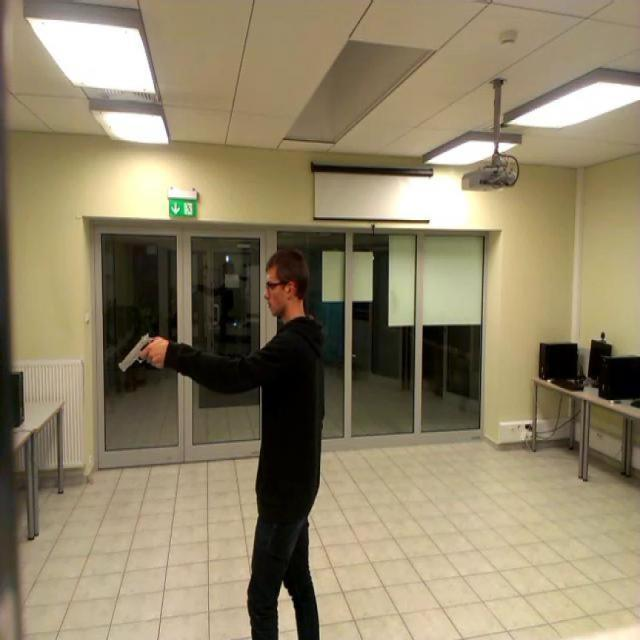pistol: (120, 332, 160, 370)
